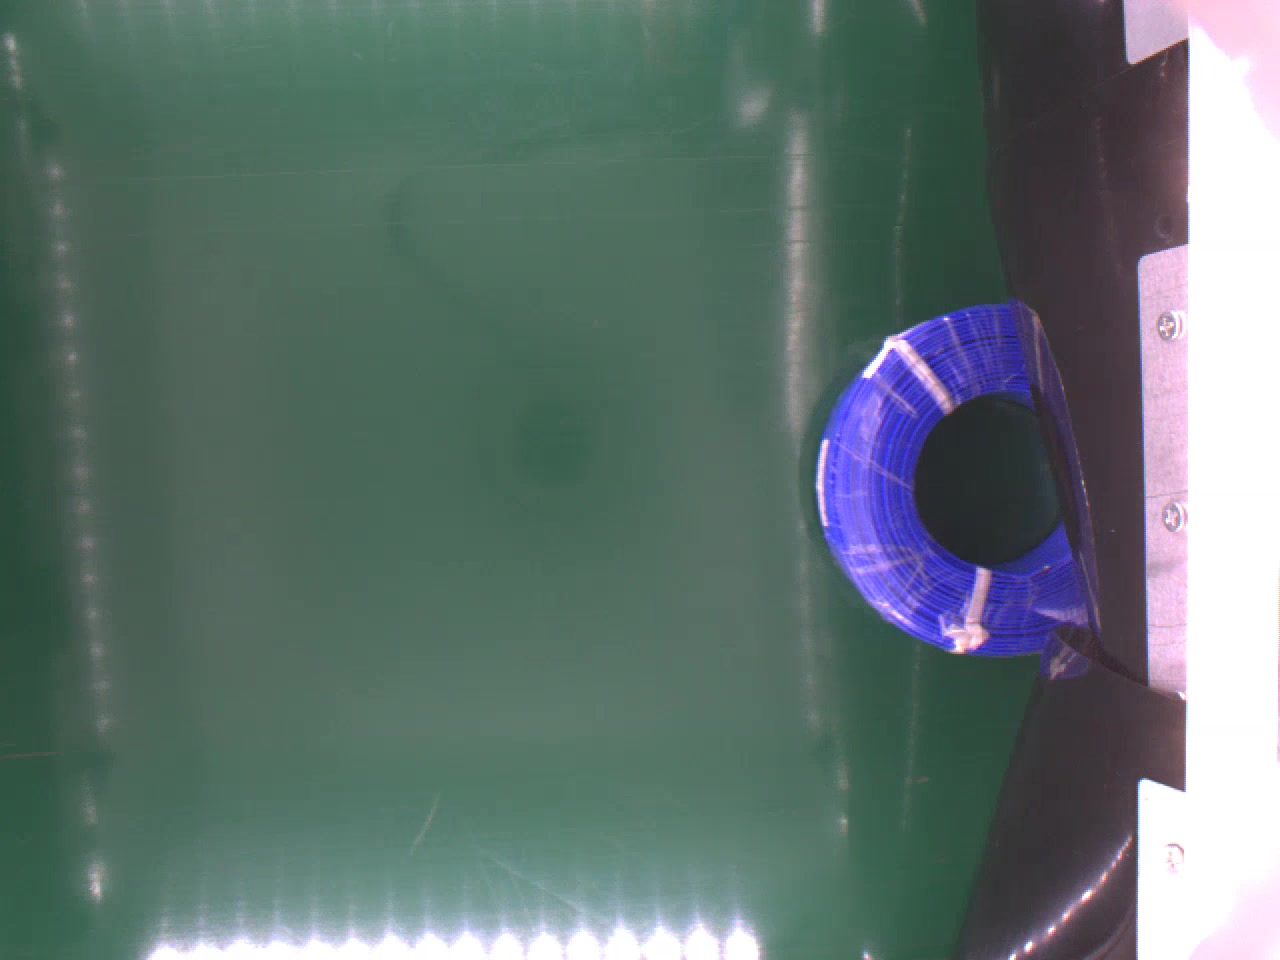blue: (816, 299, 1083, 657)
